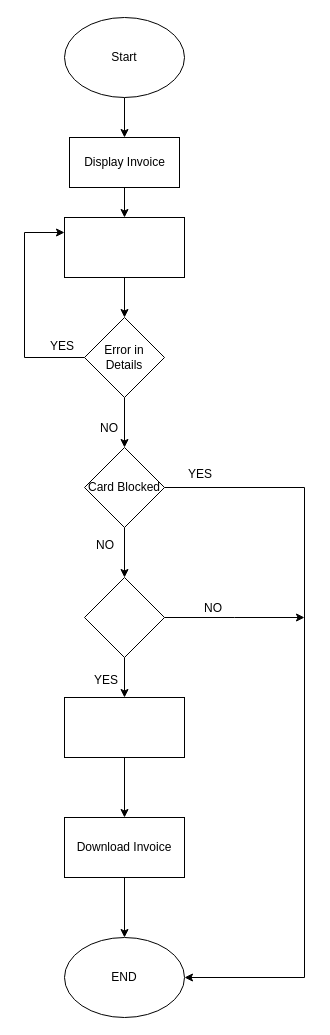
Some shapes in this 330 by 1035 pixel diagram are drawn without their labels. The shapes that lost their labels are listed below. From the top down, each one's centre as x and y in pixels, then its label:
(124,247): Enter Card Details
(124,617): Sufficient Balance
(124,727): Complete Transaction
